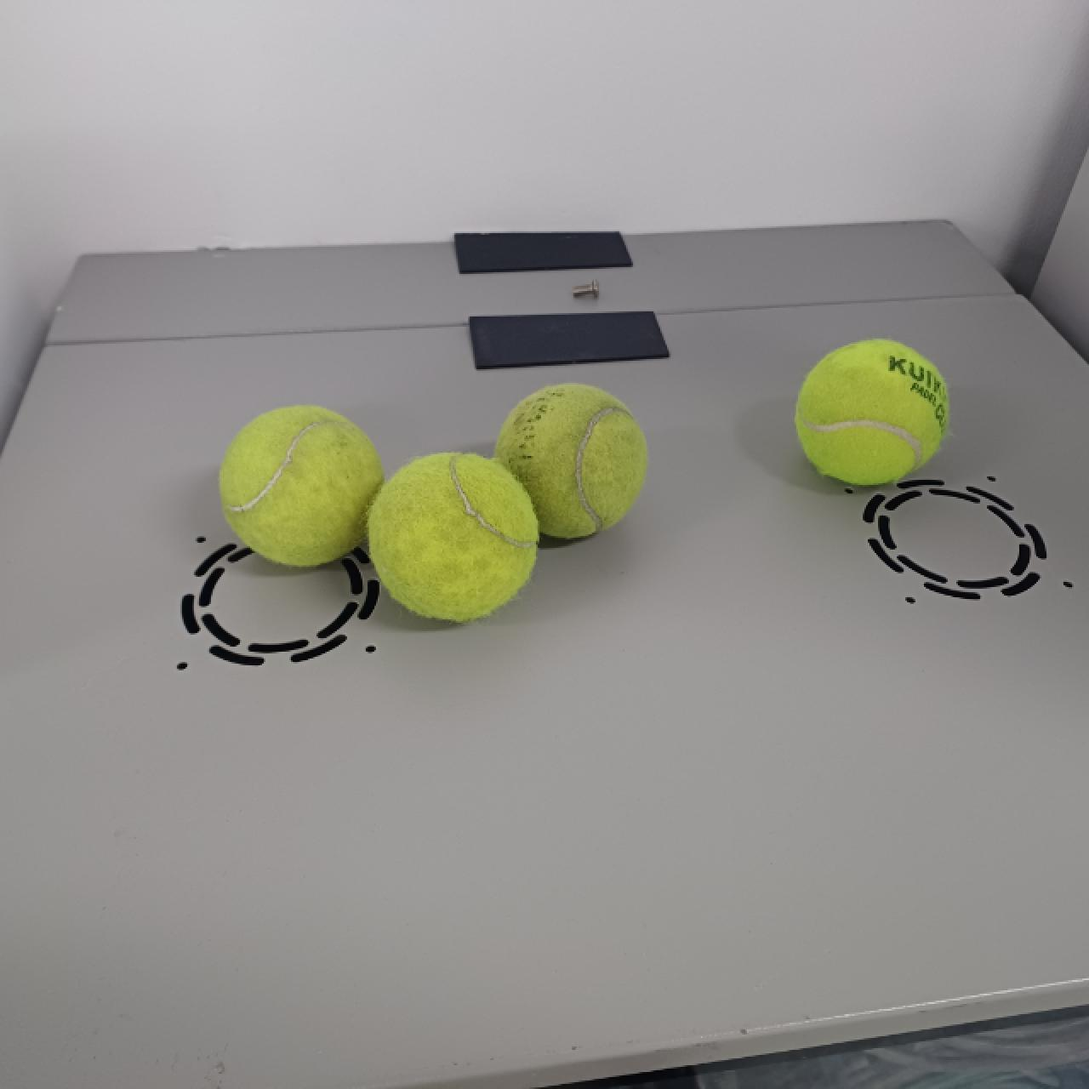tennis-ball: (365, 450, 540, 621), (219, 403, 384, 569), (494, 383, 649, 540), (794, 340, 952, 486)
